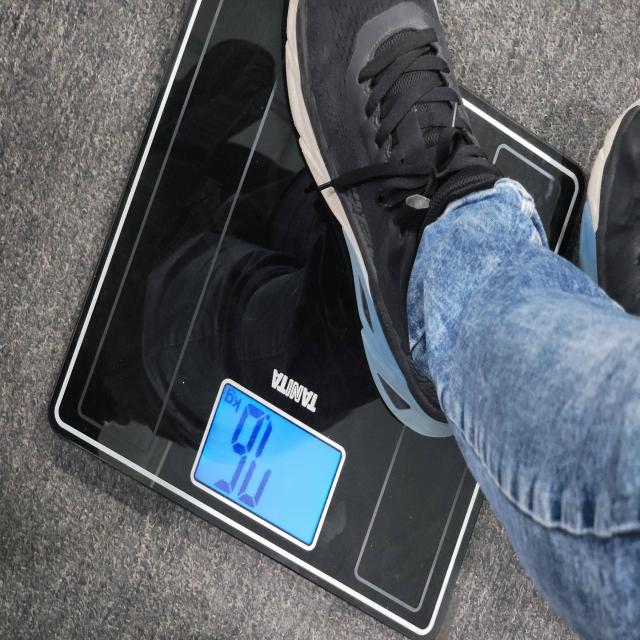ws: (190, 380, 345, 546)
